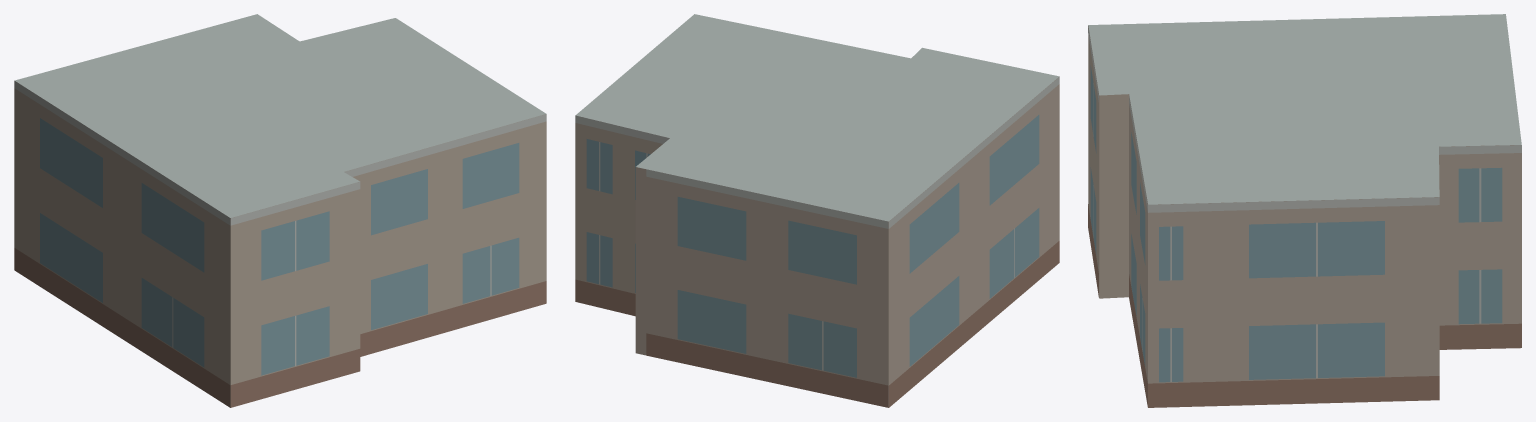
The model's file is survey-upis-33005395.glb.
3 views of the same model, side by side, from view 1: azimuth 30°, elevation 25°; view 2: azimuth 150°, elevation 25°; view 3: azimuth 270°, elevation 25° (orthographic). The views are drawn at different scales.
Visible parts, largest first — view 1: survey-upis-33005395.tmp; view 2: survey-upis-33005395.tmp; view 3: survey-upis-33005395.tmp.
Part boxes in pixels (x1,y1,x2,y2): survey-upis-33005395.tmp: (14, 14, 546, 407); survey-upis-33005395.tmp: (575, 14, 1059, 407); survey-upis-33005395.tmp: (1088, 14, 1521, 407).
Size of the model in its own units: 12.29 by 6.1 by 11.8.
